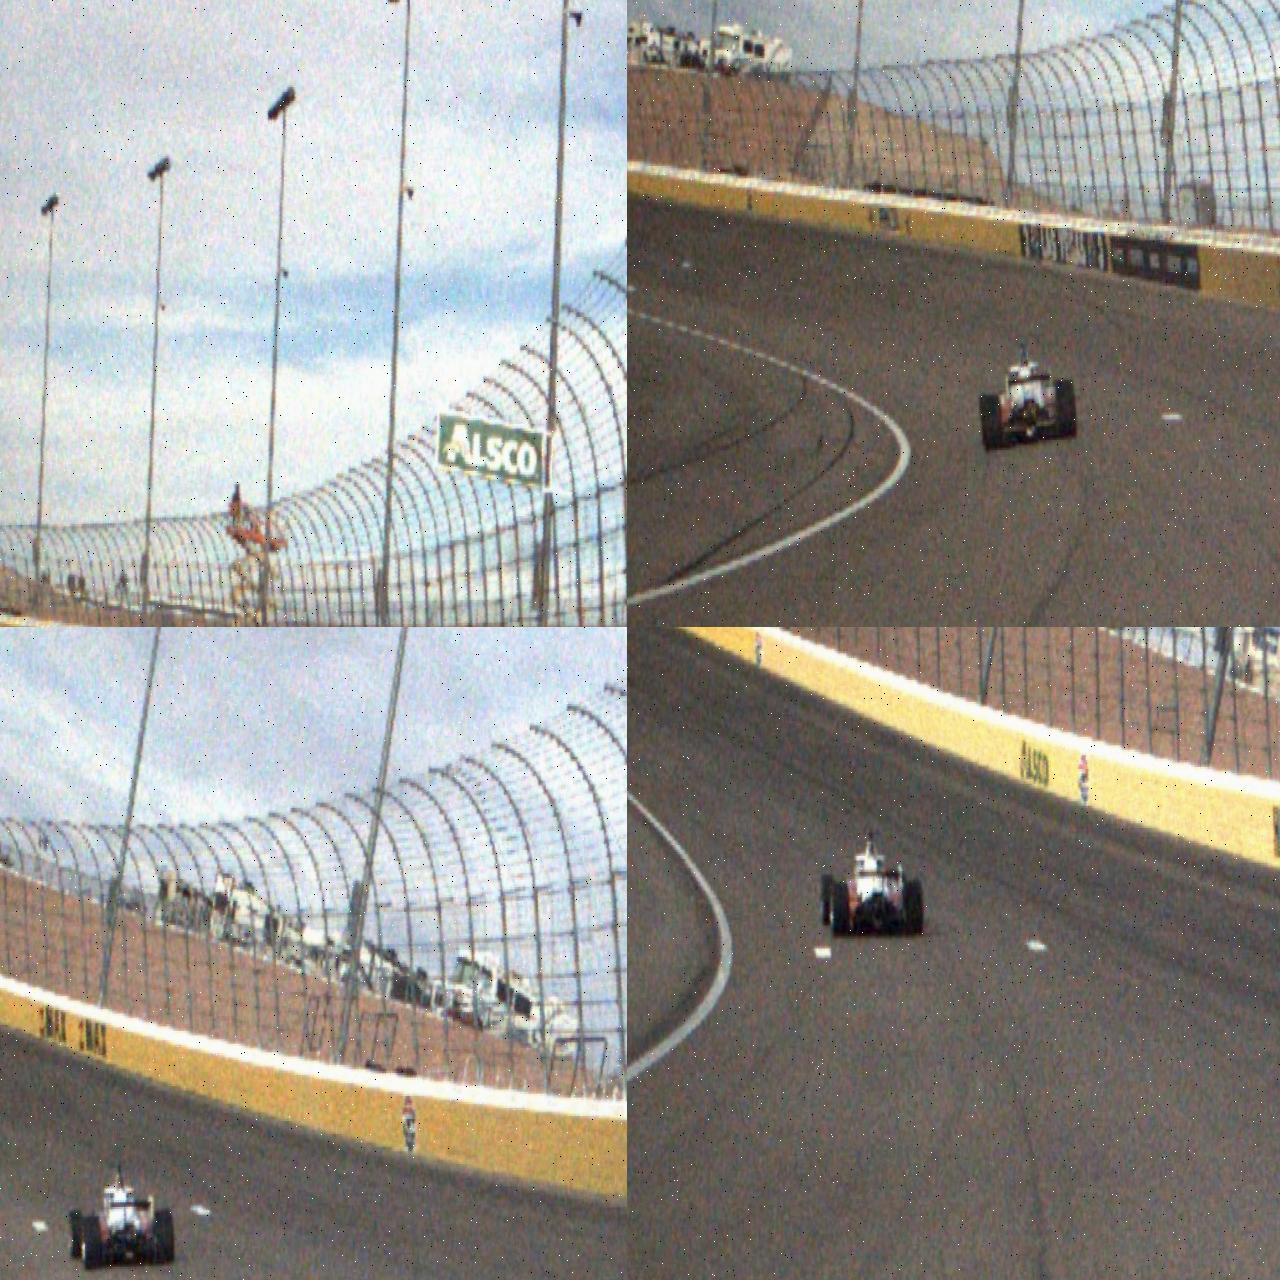AV: (68, 1158, 176, 1272), (978, 337, 1078, 453), (820, 830, 924, 938)
Wheel: (1054, 380, 1078, 440), (82, 1215, 102, 1272), (155, 1210, 175, 1266), (904, 880, 924, 936), (830, 883, 850, 938), (984, 395, 1002, 452), (68, 1208, 84, 1260), (820, 874, 836, 926)
